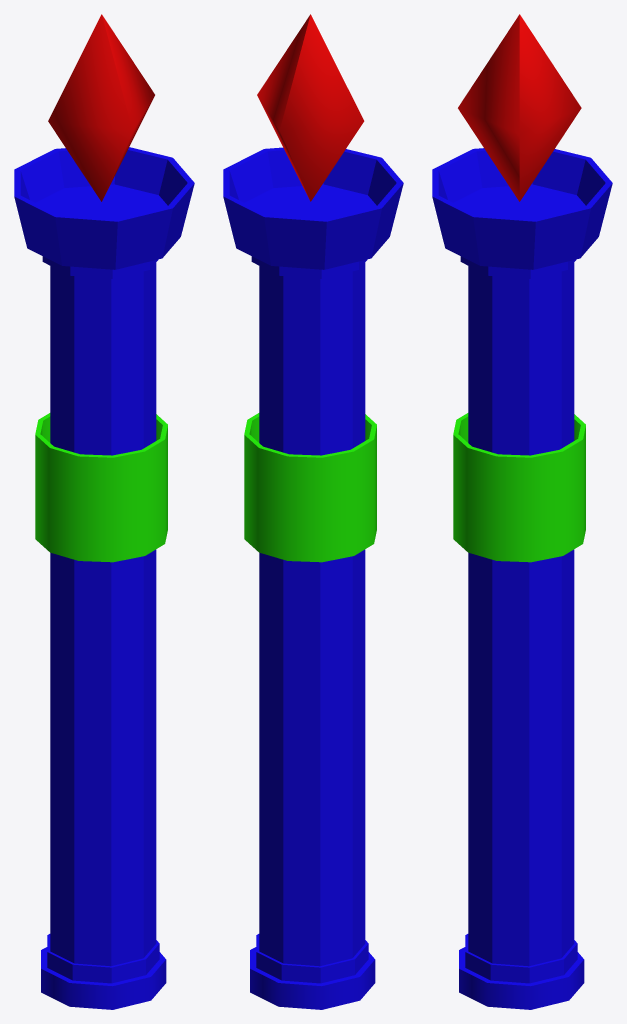
File: stage01_column_b.FBX
The picture shows the model from 3 angles, left to right: view 1: azimuth 30°, elevation 25°; view 2: azimuth 150°, elevation 25°; view 3: azimuth 270°, elevation 25°; orthographic projection.
Visible parts, largest first — view 1: Cylinder010; view 2: Cylinder010; view 3: Cylinder010.
Boxes of the visible parts, x1=… form: Cylinder010: x1=14, y1=14, x2=194, y2=1009; Cylinder010: x1=223, y1=14, x2=403, y2=1009; Cylinder010: x1=432, y1=14, x2=612, y2=1009.
Bounding box in the file's own units: 120 × 702 × 119.
